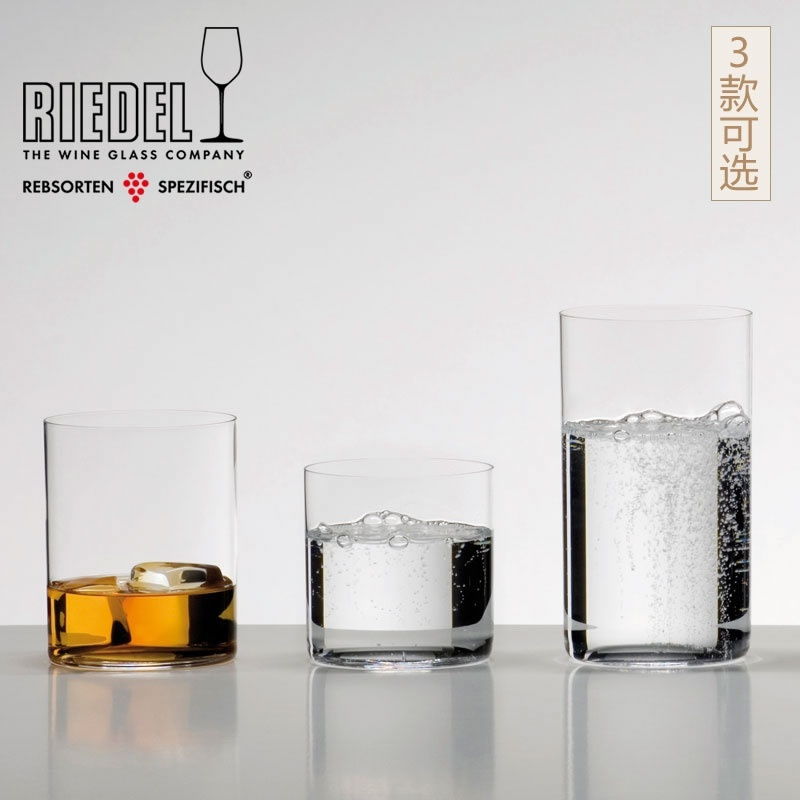whiskey: (39, 410, 247, 676)
